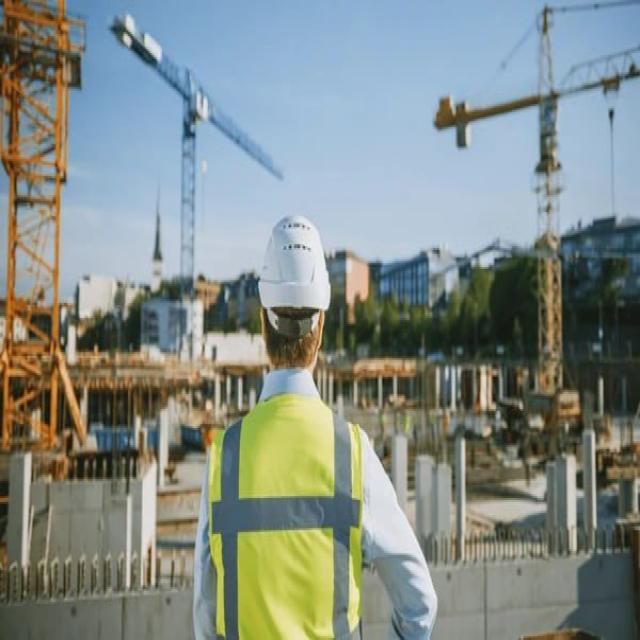helmet: (246, 205, 344, 321)
human: (156, 163, 446, 640)
vest: (210, 418, 372, 640)
